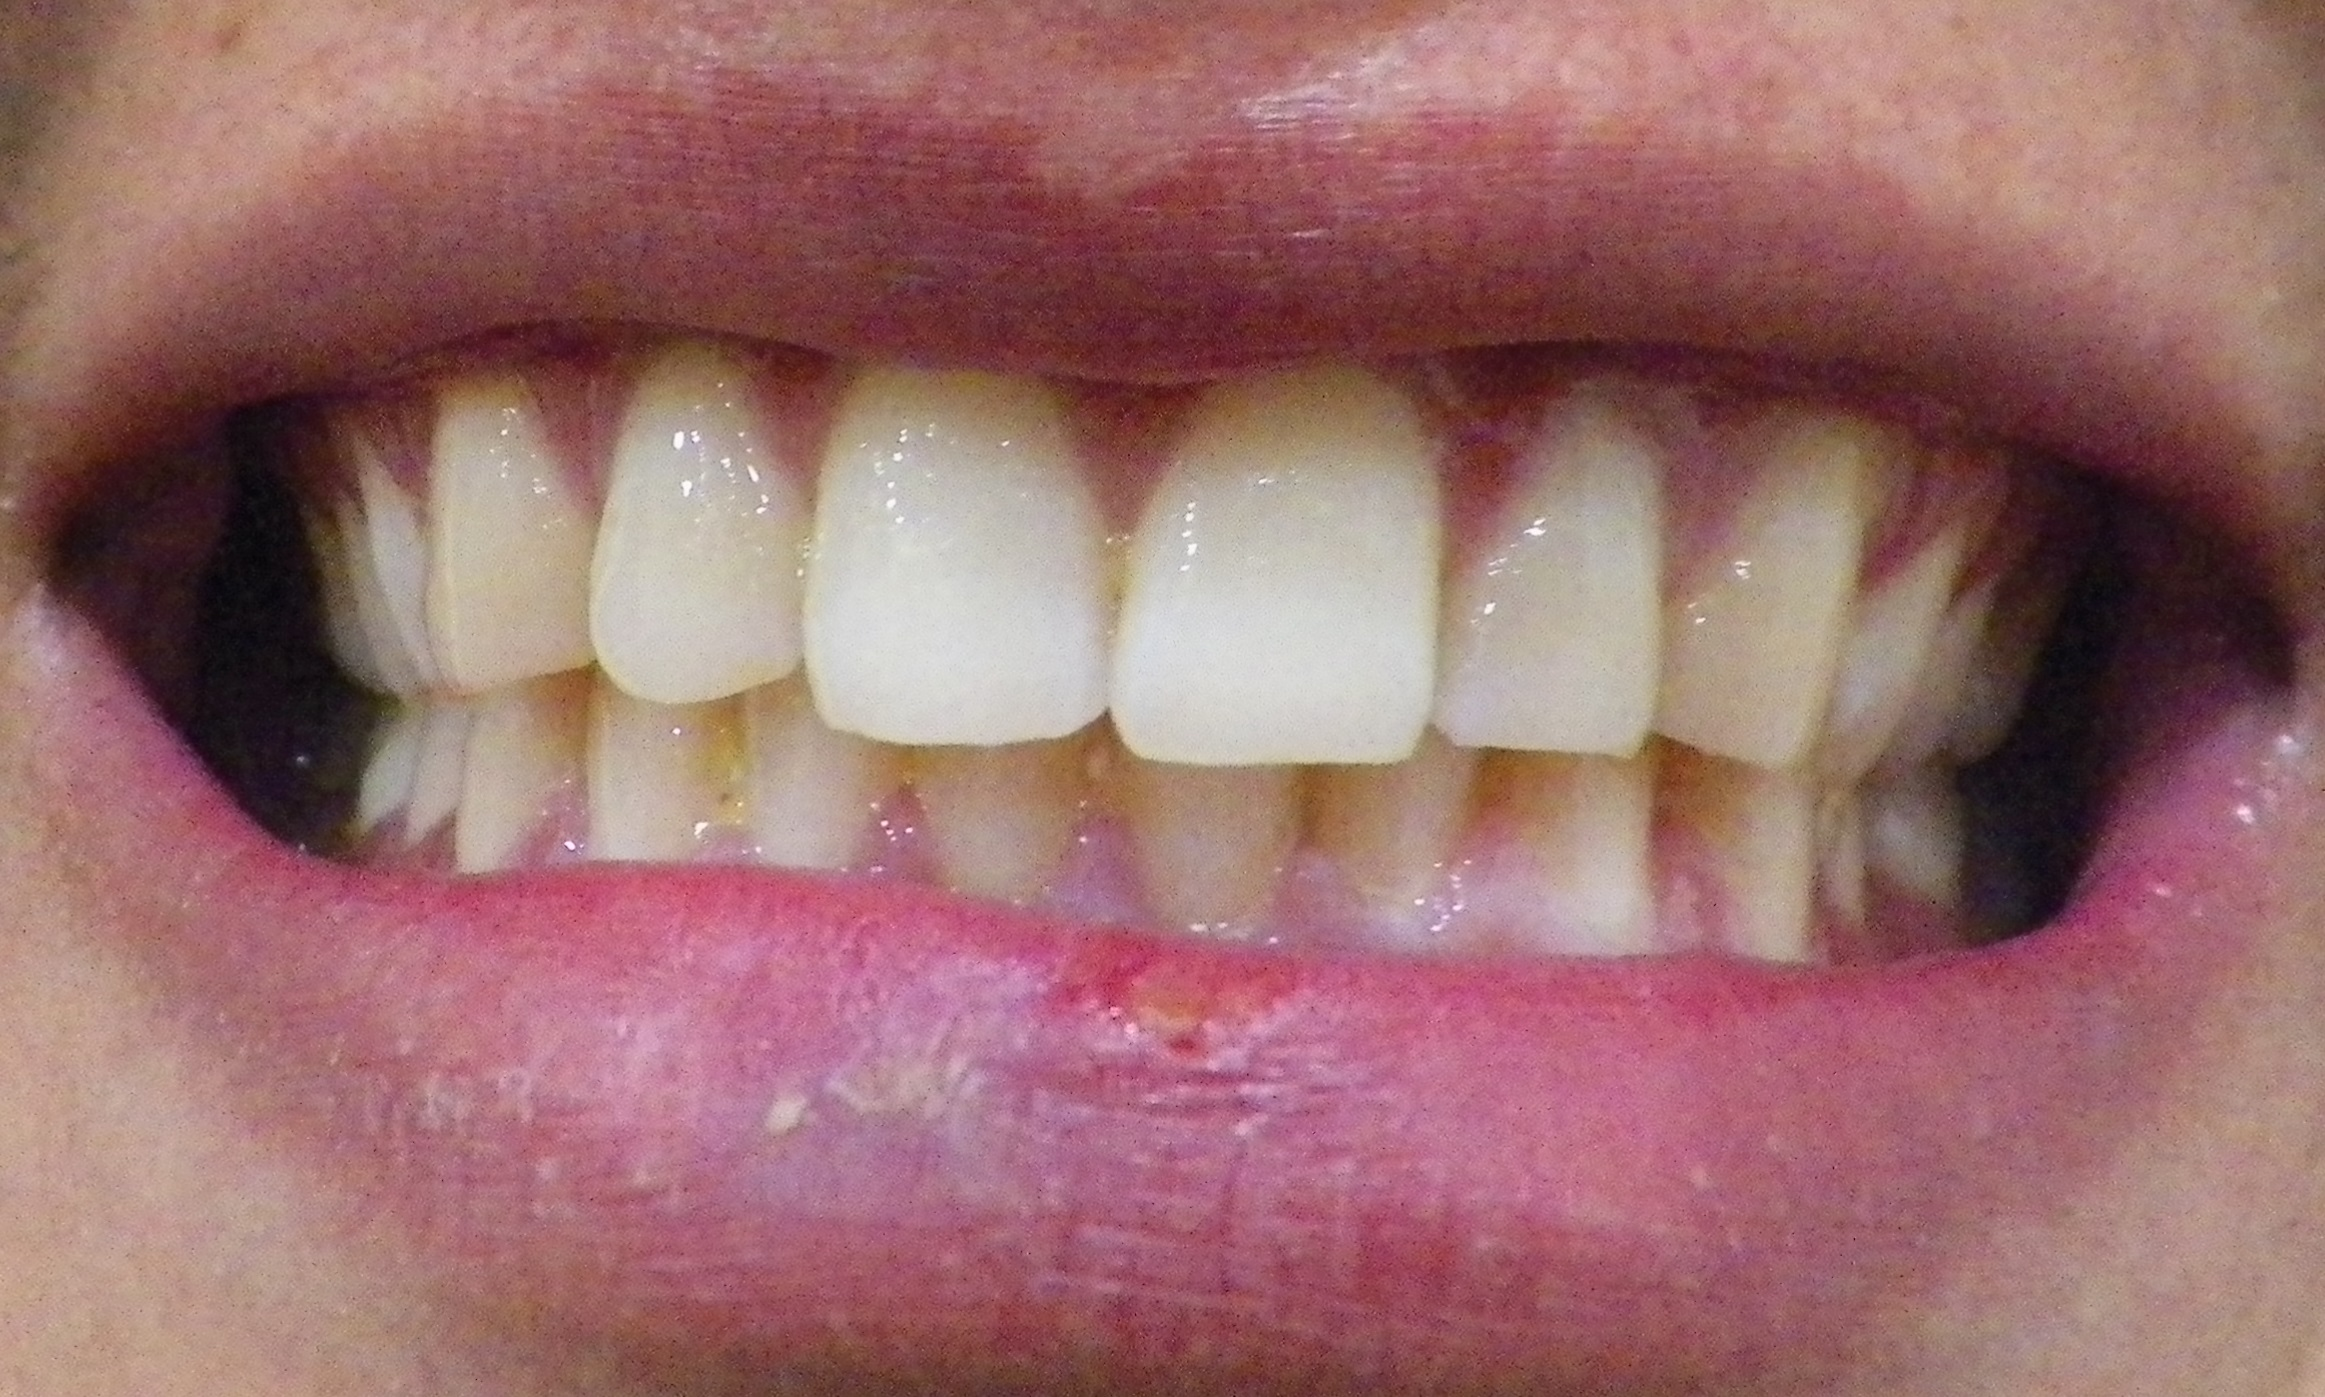boca: (296, 377, 2016, 944)
